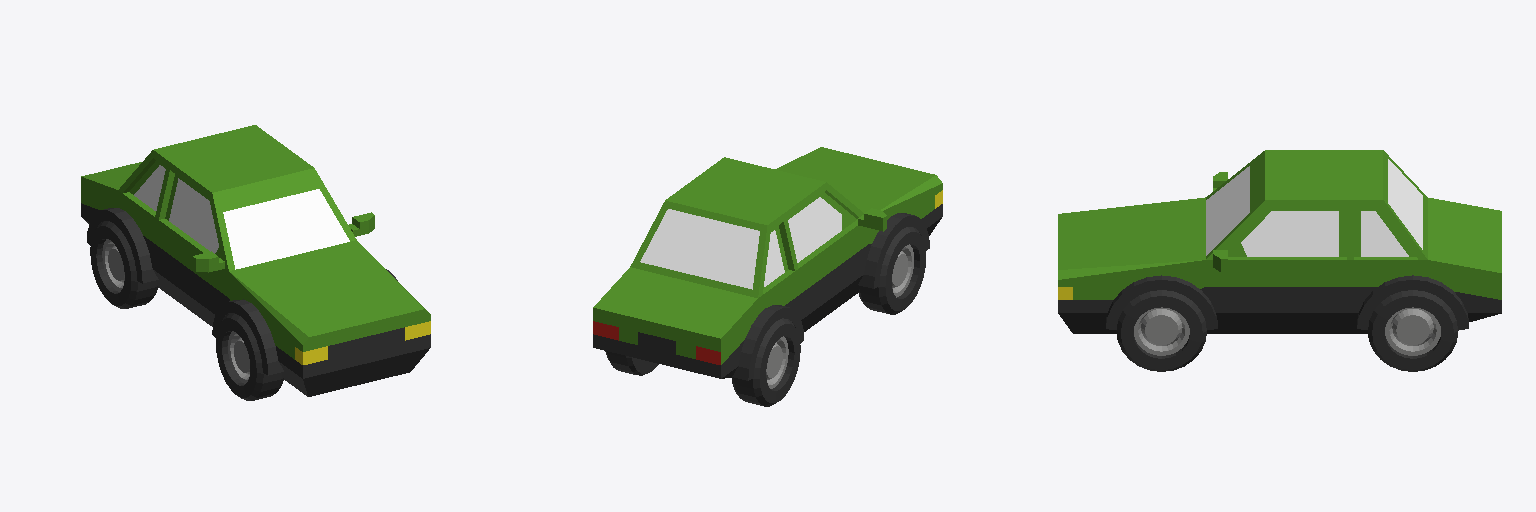
The model's file is car_long_green.obj.
3 views of the same model, side by side, from view 1: azimuth 30°, elevation 25°; view 2: azimuth 150°, elevation 25°; view 3: azimuth 270°, elevation 25° (orthographic).
Visible parts, largest first — view 1: mergedBlocks; view 2: mergedBlocks; view 3: mergedBlocks.
Boxes of the visible parts, <box> form: mergedBlocks: <box>81,125,430,400</box>; mergedBlocks: <box>593,147,942,406</box>; mergedBlocks: <box>1058,150,1501,371</box>.
Bounding box in the file's own units: 1.4 × 1.21 × 3.